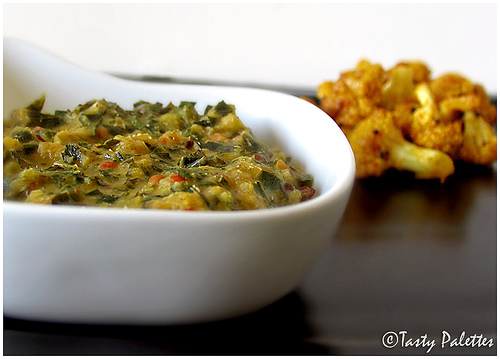cauliflower: (315, 59, 497, 180)
